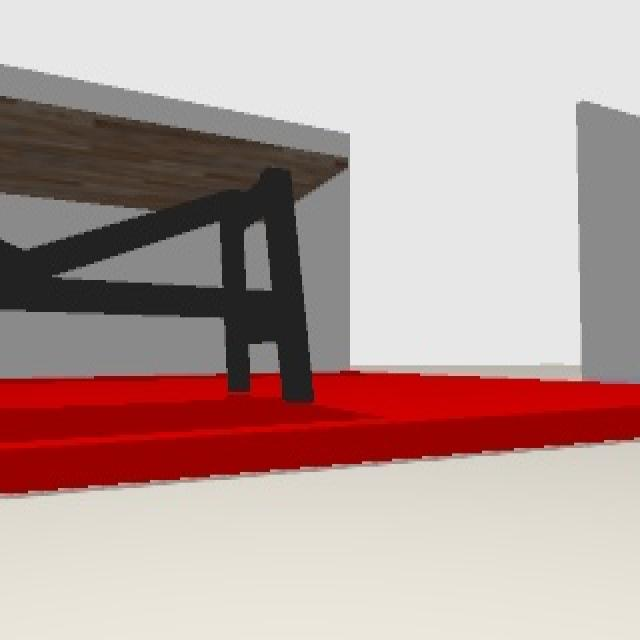dining: (1, 98, 344, 404)
